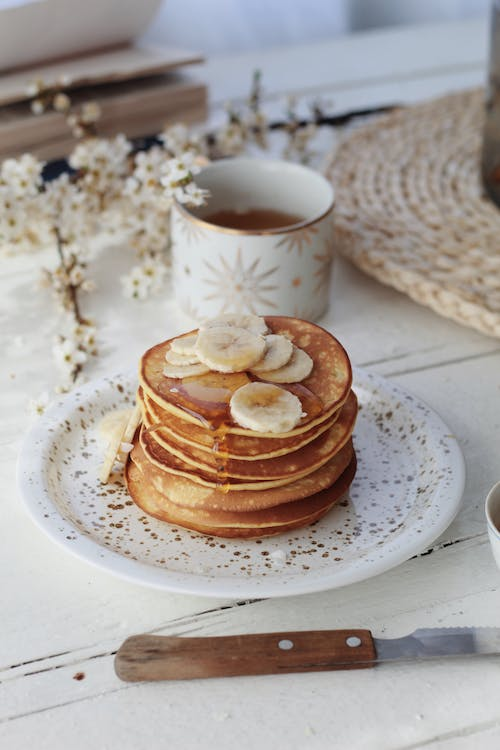knife: (110, 621, 500, 685)
